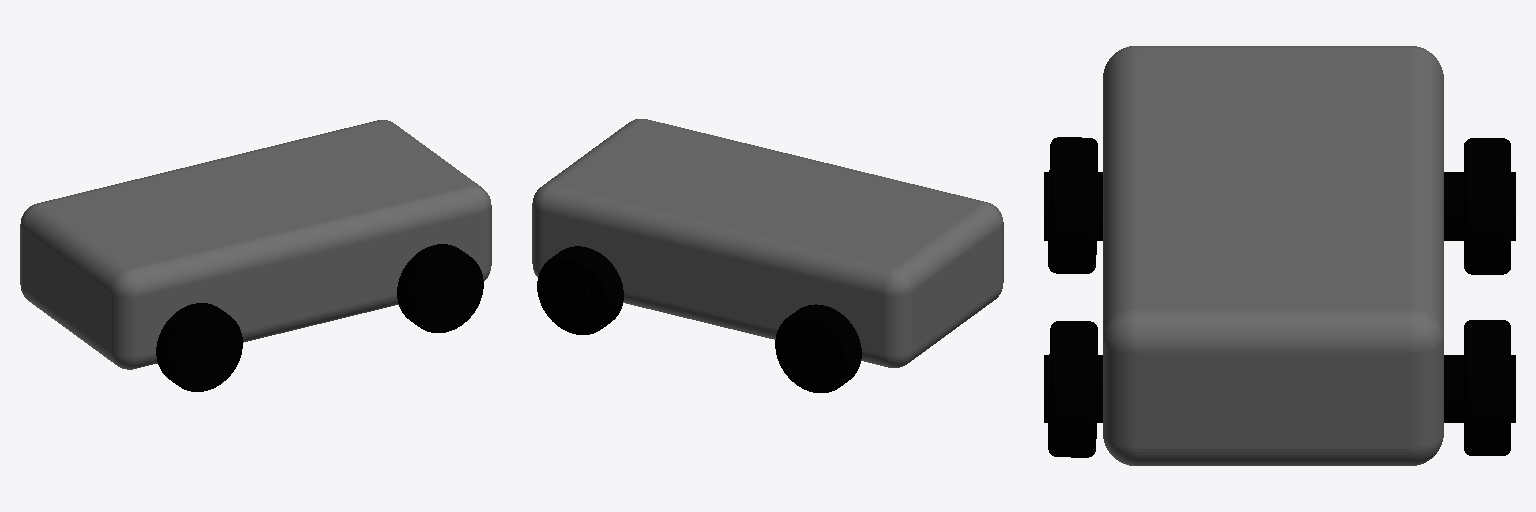
robot.urdf — fusion_car:
<?xml version="1.0"?>
<robot name="fusion_car">

  <material name="chassis_gray">
    <color rgba="0.45 0.45 0.45 1.0"/>
  </material>

  <material name="wheel_black">
    <color rgba="0.02 0.02 0.02 1.0"/>
  </material>

  <link name="base_link">
    <visual>
      <origin xyz="0 0 0" rpy="0 0 0"/>
      <geometry>
        <mesh filename="package://robot_pkg/meshes/chassis.stl" scale="0.001 0.001 0.001"/>
      </geometry>
      <material name="chassis_gray"/>
    </visual>
    <collision>
      <origin xyz="0 0 0" rpy="0 0 0"/>
      <geometry>
        <mesh filename="package://robot_pkg/meshes/chassis.stl" scale="0.001 0.001 0.001"/>
      </geometry>
    </collision>
    <inertial>
      <origin xyz="0 0 0" rpy="0 0 0"/>
      <mass value="5.0"/>
      <inertia ixx="0.1" ixy="0.0" ixz="0.0" iyy="0.1" iyz="0.0" izz="0.1"/>
    </inertial>
  </link>

  <link name="front_wheel_link">
    <visual>
      <origin xyz="0 0 0" rpy="0 0 0"/>
      <geometry>
        <mesh filename="package://robot_pkg/meshes/front_wheel.stl" scale="0.001 0.001 0.001"/>
      </geometry>
      <material name="wheel_black"/>
    </visual>
    <collision>
      <origin xyz="0 0 0" rpy="0 0 0"/>
      <geometry>
        <mesh filename="package://robot_pkg/meshes/front_wheel.stl" scale="0.001 0.001 0.001"/>
      </geometry>
    </collision>
    <inertial>
      <origin xyz="0 0 0" rpy="0 0 0"/>
      <mass value="0.5"/>
      <inertia ixx="0.01" ixy="0.0" ixz="0.0" iyy="0.01" iyz="0.0" izz="0.01"/>
    </inertial>
  </link>

  <joint name="front_wheel_joint" type="continuous">
    <parent link="base_link"/>
    <child link="front_wheel_link"/>
    <origin xyz="0 0 0" rpy="0 0 0"/>
    <axis xyz="0 1 0"/>
  </joint>

  <link name="back_wheel_link">
    <visual>
      <origin xyz="0 0 0" rpy="0 0 0"/>
      <geometry>
        <mesh filename="package://robot_pkg/meshes/back_wheel.stl" scale="0.001 0.001 0.001"/>
      </geometry>
      <material name="wheel_black"/>
    </visual>
    <collision>
      <origin xyz="0 0 0" rpy="0 0 0"/>
      <geometry>
        <mesh filename="package://robot_pkg/meshes/back_wheel.stl" scale="0.001 0.001 0.001"/>
      </geometry>
    </collision>
    <inertial>
      <origin xyz="0 0 0" rpy="0 0 0"/>
      <mass value="0.5"/>
      <inertia ixx="0.01" ixy="0.0" ixz="0.0" iyy="0.01" iyz="0.0" izz="0.01"/>
    </inertial>
  </link>

  <joint name="back_wheel_joint" type="continuous">
    <parent link="base_link"/>
    <child link="back_wheel_link"/>
    <origin xyz="0 0 0" rpy="0 0 0"/>
    <axis xyz="0 1 0"/>
  </joint>

</robot>

--- Facts derived from the render (not from the file) ---
3 views of the same robot in one strip: view 1: azimuth 30°, elevation 25°; view 2: azimuth 150°, elevation 25°; view 3: azimuth 270°, elevation 25° (orthographic).
Model fusion_car with 3 links and 2 joints (2 continuous), rooted at base_link, posed all joints at 0.
Visible links, largest first — view 1: base_link, back_wheel_link, front_wheel_link; view 2: base_link, front_wheel_link, back_wheel_link; view 3: base_link, front_wheel_link, back_wheel_link.
Boxes of the visible links, <box> form: base_link: <box>20,120,491,369</box>; back_wheel_link: <box>397,244,483,332</box>; front_wheel_link: <box>156,303,242,391</box>; base_link: <box>532,119,1003,367</box>; front_wheel_link: <box>775,304,861,392</box>; back_wheel_link: <box>537,246,623,334</box>; base_link: <box>1103,46,1443,465</box>; front_wheel_link: <box>1044,137,1515,274</box>; back_wheel_link: <box>1044,320,1515,457</box>.
Size in the robot's own frame: 0.1 by 0.069 by 0.0293 metres.
3 mesh visuals loaded from 3 distinct referenced files (3 binary STL).
